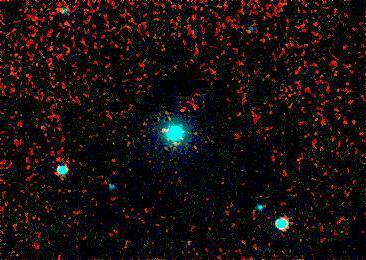star: (148, 114, 178, 144)
